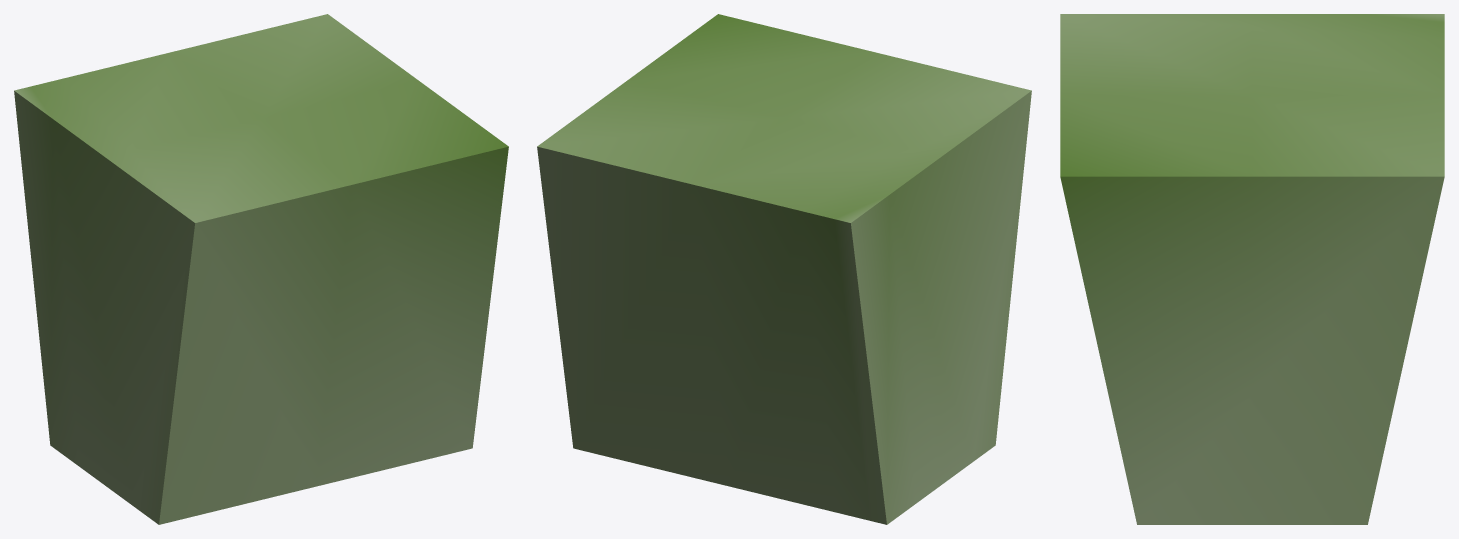
File: T2DirR.fbx
3 views of the same model, side by side, from view 1: azimuth 30°, elevation 25°; view 2: azimuth 150°, elevation 25°; view 3: azimuth 270°, elevation 25° (orthographic). The views are drawn at different scales.
Visible parts, largest first — view 1: 3, 1, 4, 2; view 2: 4, 2, 3, 1; view 3: 1, 2, 3, 4.
Part boxes in pixels (x1,y1,x2,y2): 3: (104, 118, 351, 524); 1: (262, 80, 508, 486); 4: (14, 52, 260, 484); 2: (171, 14, 417, 118); 4: (694, 118, 941, 524); 2: (537, 80, 783, 486); 3: (785, 52, 1031, 484); 1: (628, 14, 874, 118); 1: (1060, 95, 1252, 524); 2: (1252, 95, 1444, 524); 3: (1060, 14, 1252, 95); 4: (1252, 14, 1444, 95).
Size of the model in its own units: 200 by 200 by 200.
